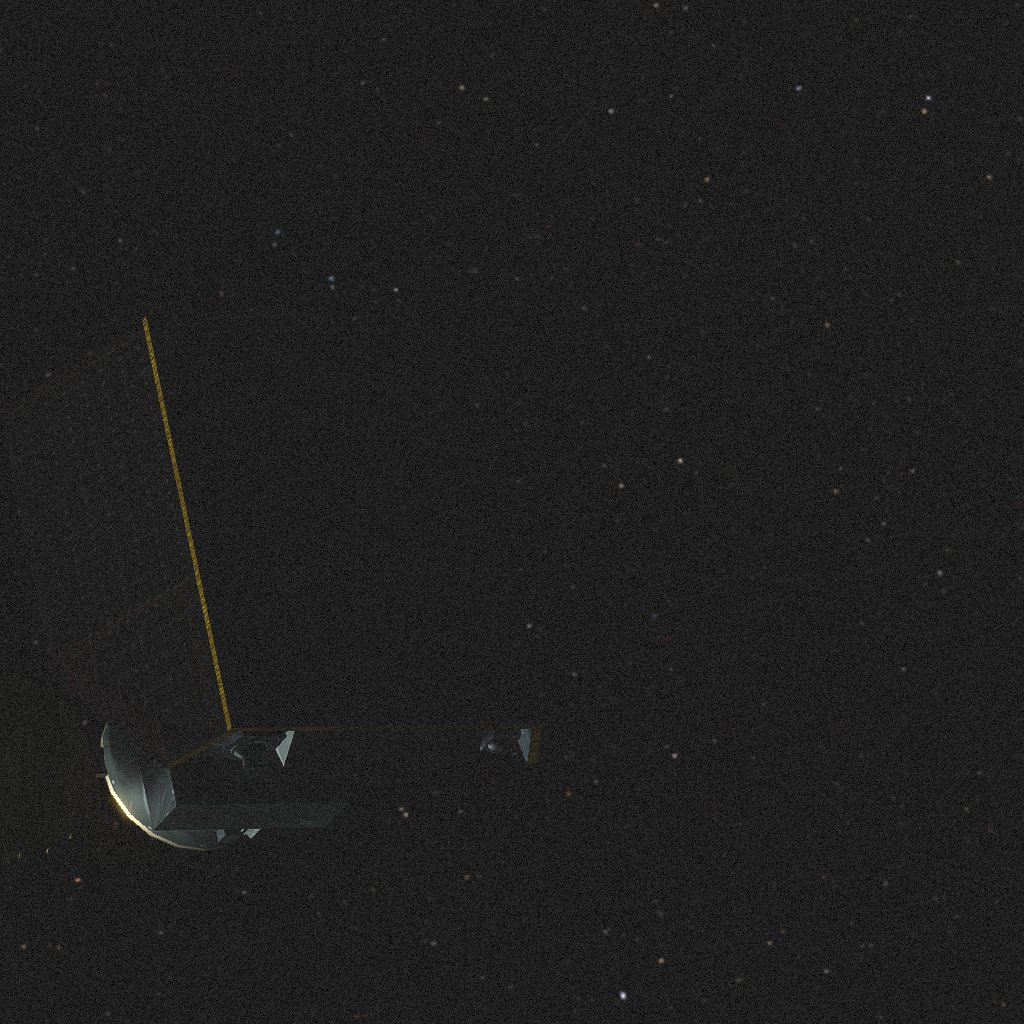cheops: (0, 310, 546, 861)
